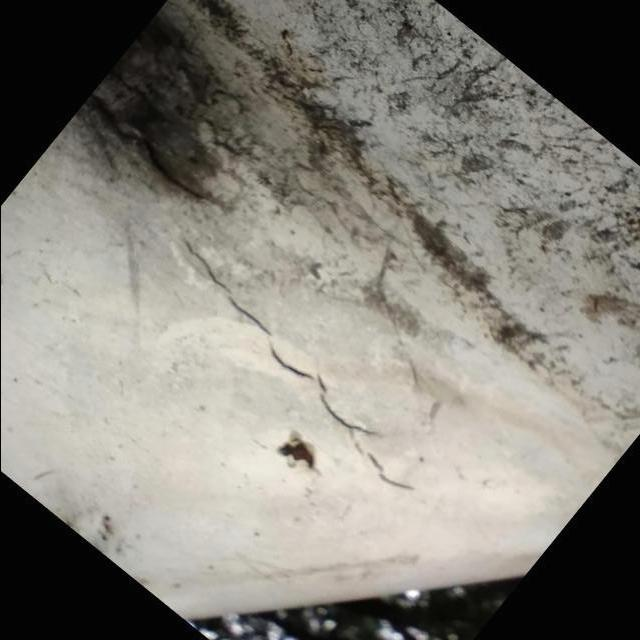defect: (174, 231, 418, 495)
